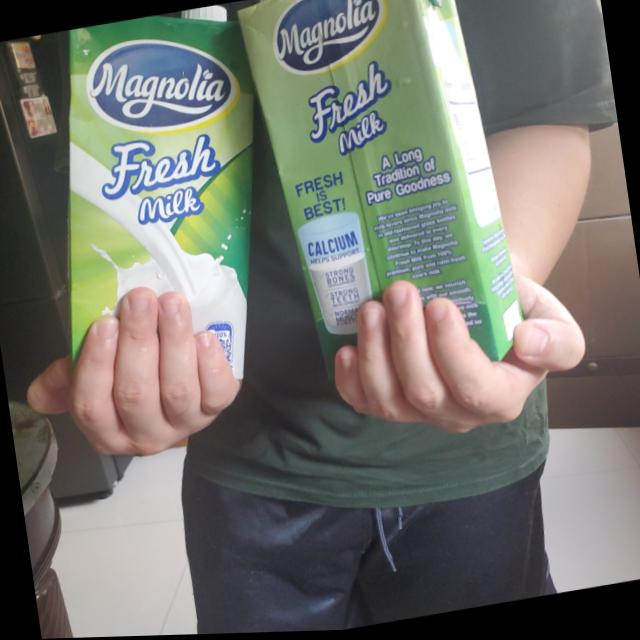milk: (234, 0, 530, 397), (28, 7, 295, 422)
